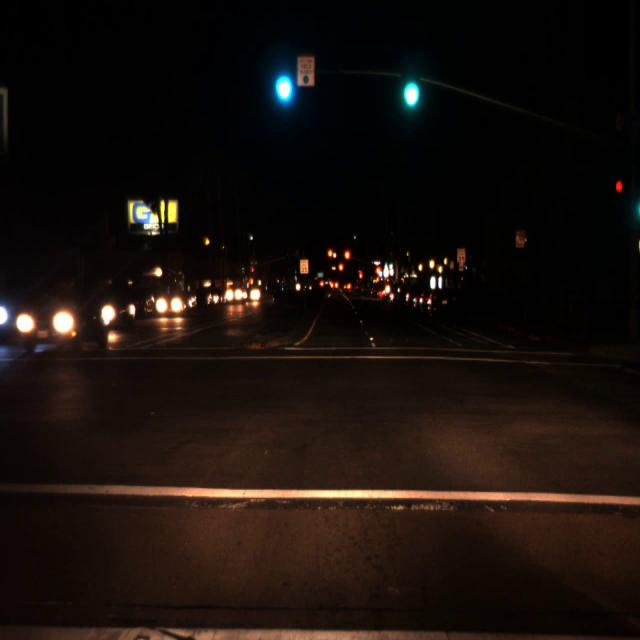go: (399, 55, 421, 114), (271, 50, 293, 108)
go traffic light: (399, 55, 421, 114), (271, 50, 293, 108)
stop: (343, 249, 351, 270), (374, 265, 382, 286), (326, 247, 334, 267), (337, 262, 345, 280), (358, 270, 362, 286), (252, 267, 254, 277)
stop traffic light: (343, 249, 351, 270), (374, 265, 382, 286), (326, 247, 334, 267), (337, 262, 345, 280), (358, 270, 362, 286), (252, 267, 254, 277)
